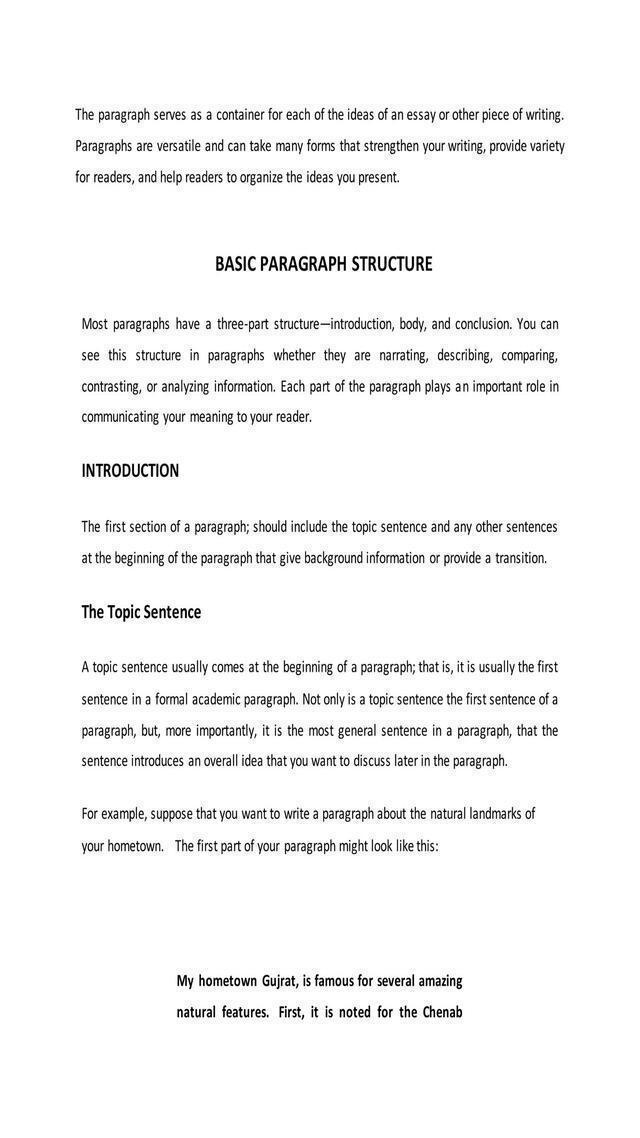Text: (74, 307, 568, 336), (74, 800, 544, 828), (75, 344, 569, 370), (77, 718, 566, 744), (70, 133, 570, 158), (75, 547, 555, 573), (75, 375, 570, 400), (76, 687, 565, 712), (76, 655, 565, 680), (69, 104, 573, 128), (77, 514, 566, 538), (77, 749, 516, 775), (71, 162, 406, 190), (75, 834, 446, 858), (170, 968, 470, 993), (171, 1000, 470, 1024), (208, 250, 436, 279), (76, 404, 318, 430), (78, 598, 204, 628), (77, 454, 186, 486)
